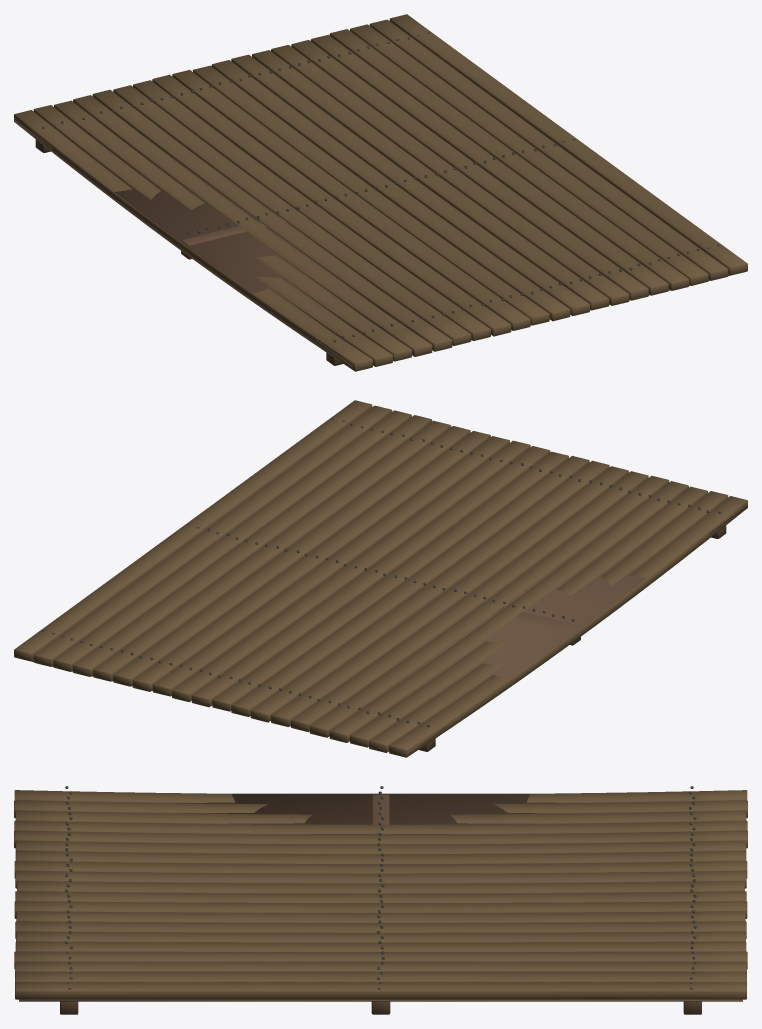
File: dock_deck_4m.glb
The picture shows the model from 3 angles, top to bottom: view 1: azimuth 30°, elevation 25°; view 2: azimuth 150°, elevation 25°; view 3: azimuth 270°, elevation 25°; orthographic projection. The views are drawn at different scales.
Parts seen in each view (by area): view 1: Dock_Deck_4m_Planks, Dock_Deck_4m_Underlay, Dock_Deck_4m_Nails, Dock_Deck_4m_Stringers; view 2: Dock_Deck_4m_Planks, Dock_Deck_4m_Underlay, Dock_Deck_4m_Nails, Dock_Deck_4m_Stringers; view 3: Dock_Deck_4m_Planks, Dock_Deck_4m_Underlay, Dock_Deck_4m_Stringers, Dock_Deck_4m_Nails.
Part boxes in pixels (<box>): Dock_Deck_4m_Planks: <box>14,14,747,371</box>; Dock_Deck_4m_Underlay: <box>15,119,729,367</box>; Dock_Deck_4m_Nails: <box>42,32,719,342</box>; Dock_Deck_4m_Stringers: <box>35,139,342,365</box>; Dock_Deck_4m_Planks: <box>14,400,747,757</box>; Dock_Deck_4m_Underlay: <box>32,505,746,753</box>; Dock_Deck_4m_Nails: <box>42,418,721,727</box>; Dock_Deck_4m_Stringers: <box>419,525,726,751</box>; Dock_Deck_4m_Planks: <box>14,790,747,999</box>; Dock_Deck_4m_Underlay: <box>19,793,742,1001</box>; Dock_Deck_4m_Stringers: <box>60,794,701,1014</box>; Dock_Deck_4m_Nails: <box>65,786,696,989</box>.
Size of the model in its own units: 4.01 by 0.222 by 6.
